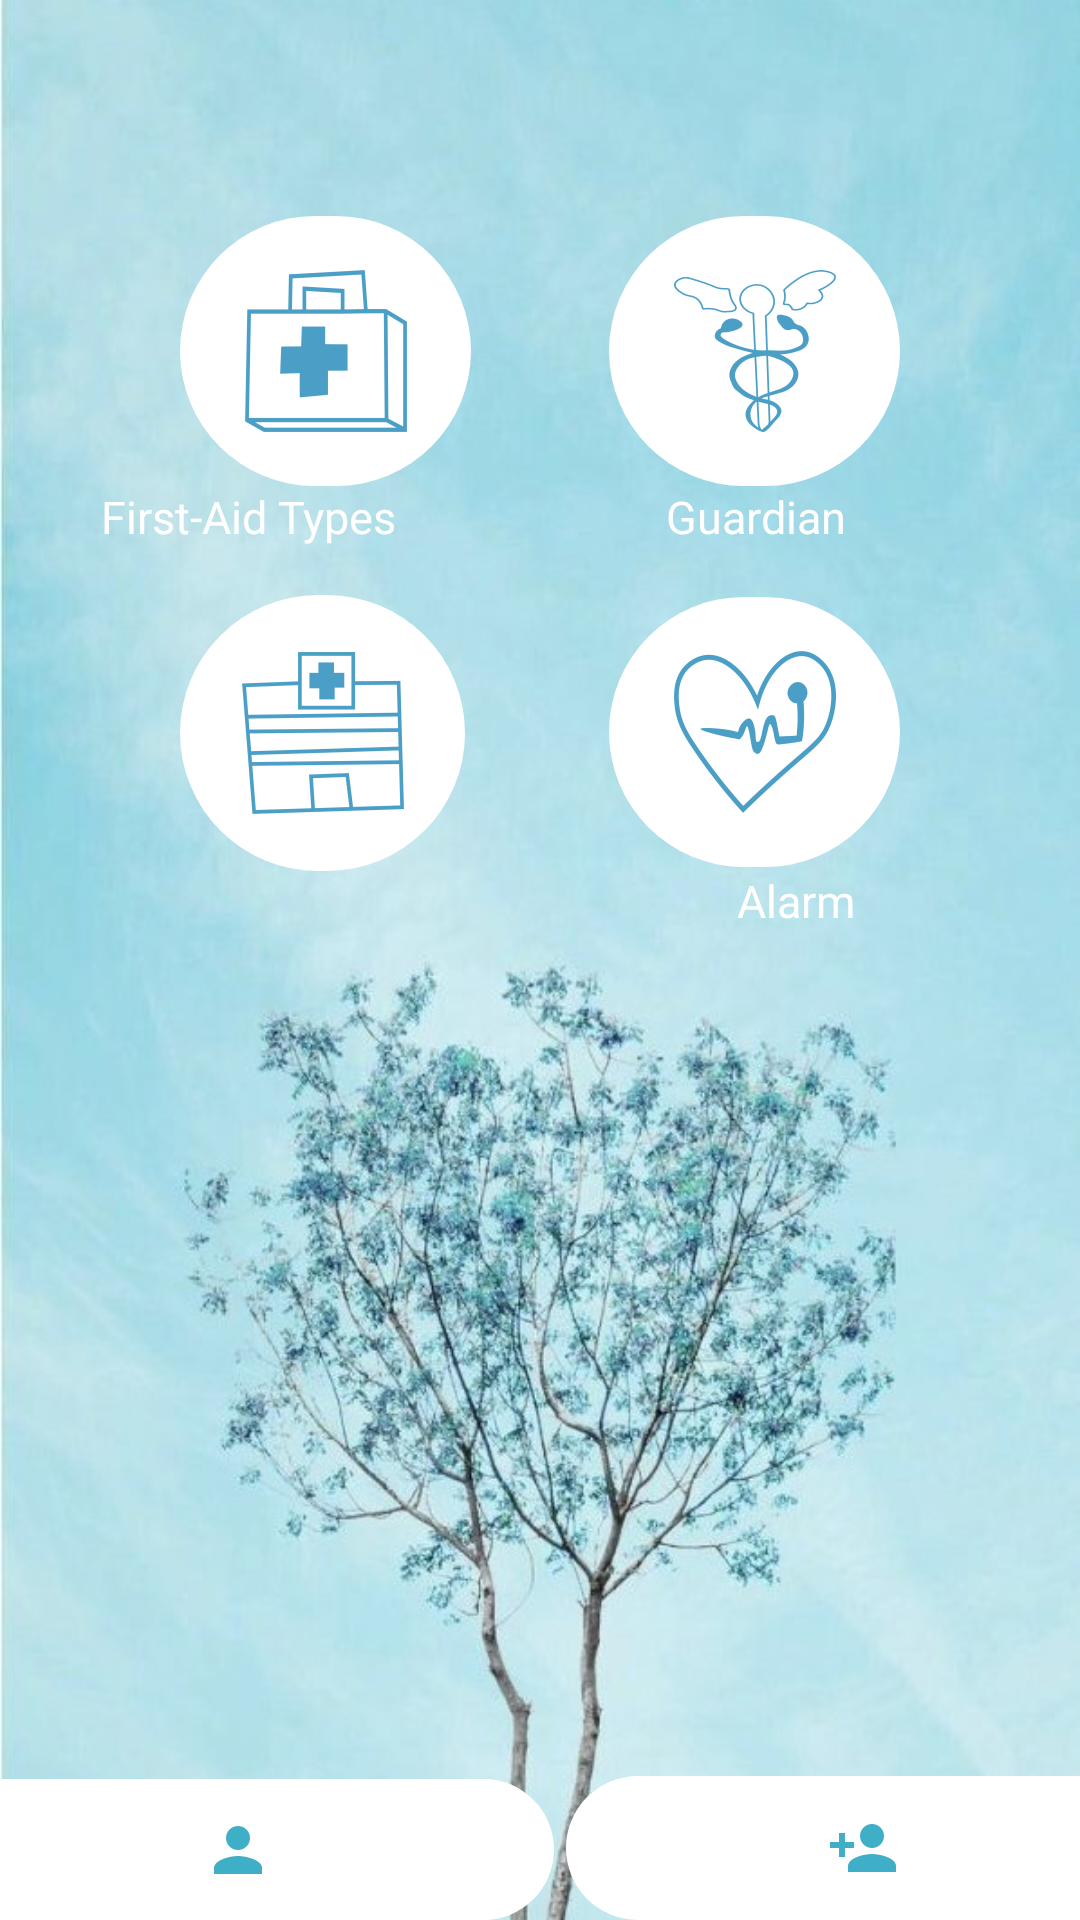

Icon click points for this 1080w x 1920h phone screenshot, format (x=x, y=y):
kalp: (x=754, y=732)
saglik: (x=754, y=351)
touch canta: (x=325, y=351)
touch hastane: (x=322, y=733)
